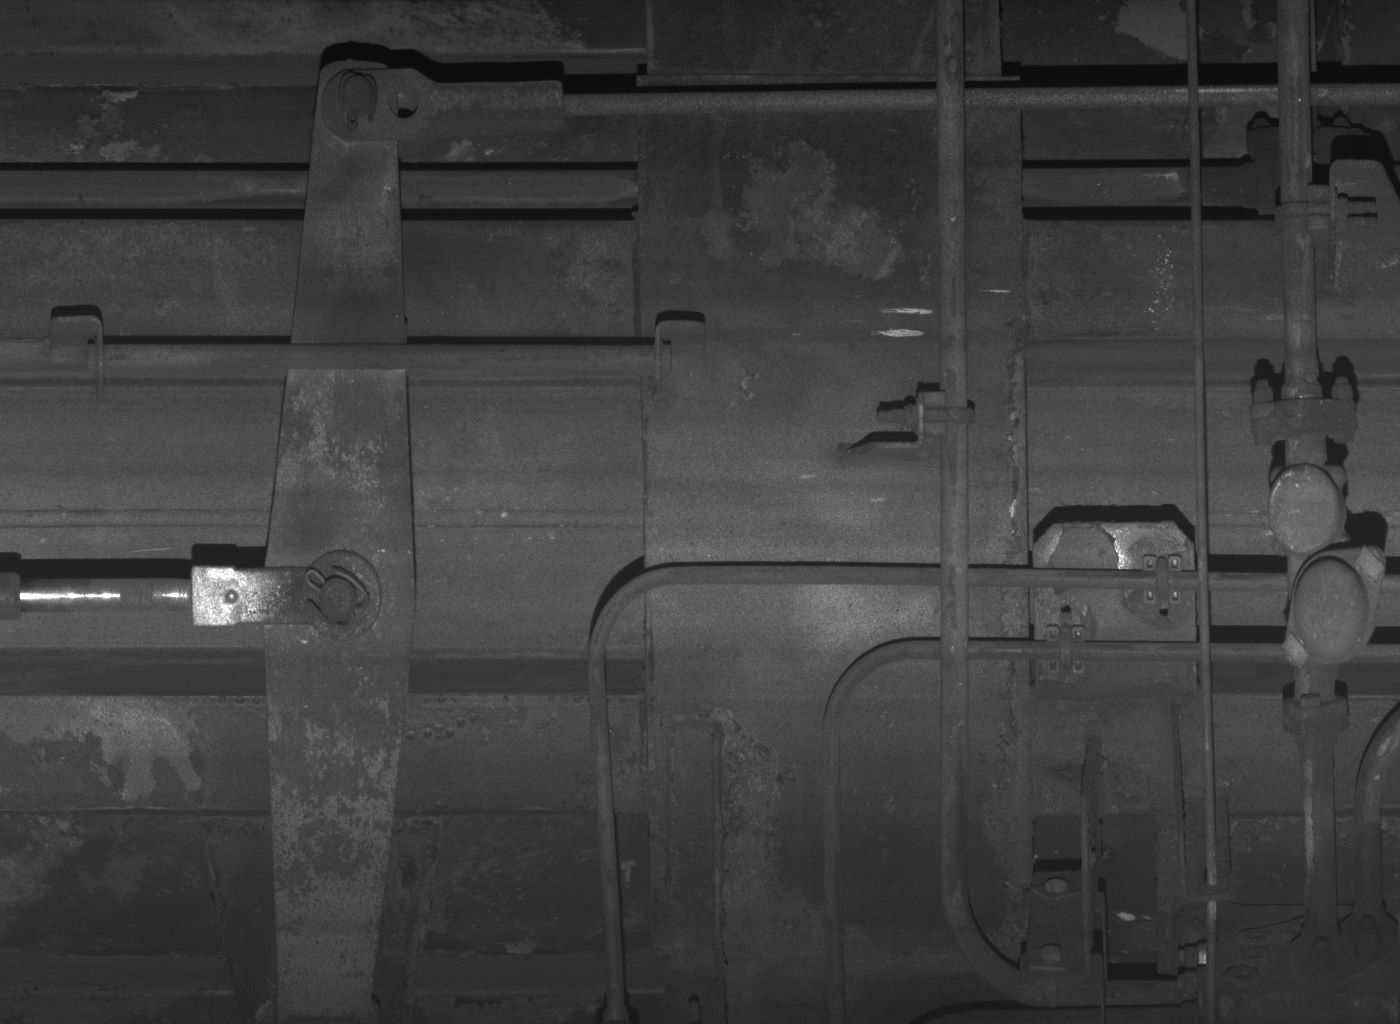normal: (1268, 462, 1351, 557)
